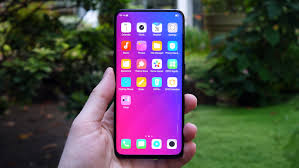oppo: (113, 5, 187, 159)
